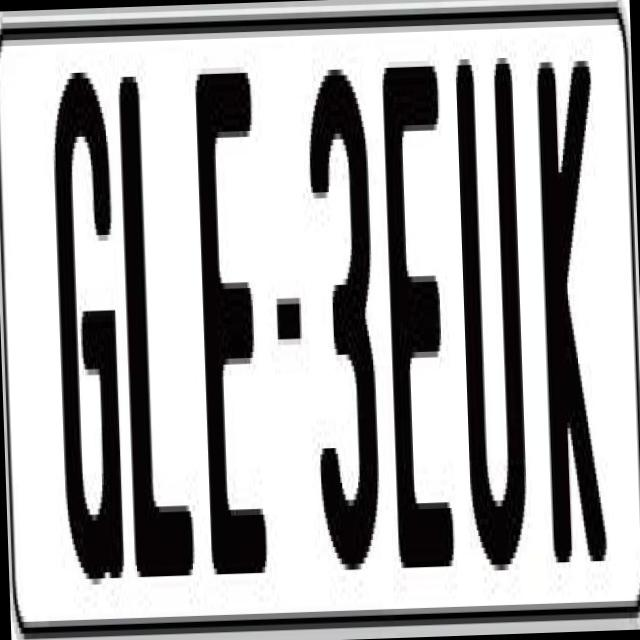3: (304, 62, 380, 576)
E: (190, 54, 264, 580), (376, 54, 452, 556)
G: (47, 59, 129, 580)
K: (536, 54, 613, 592)
L: (114, 57, 198, 577)
U: (450, 51, 531, 577)
